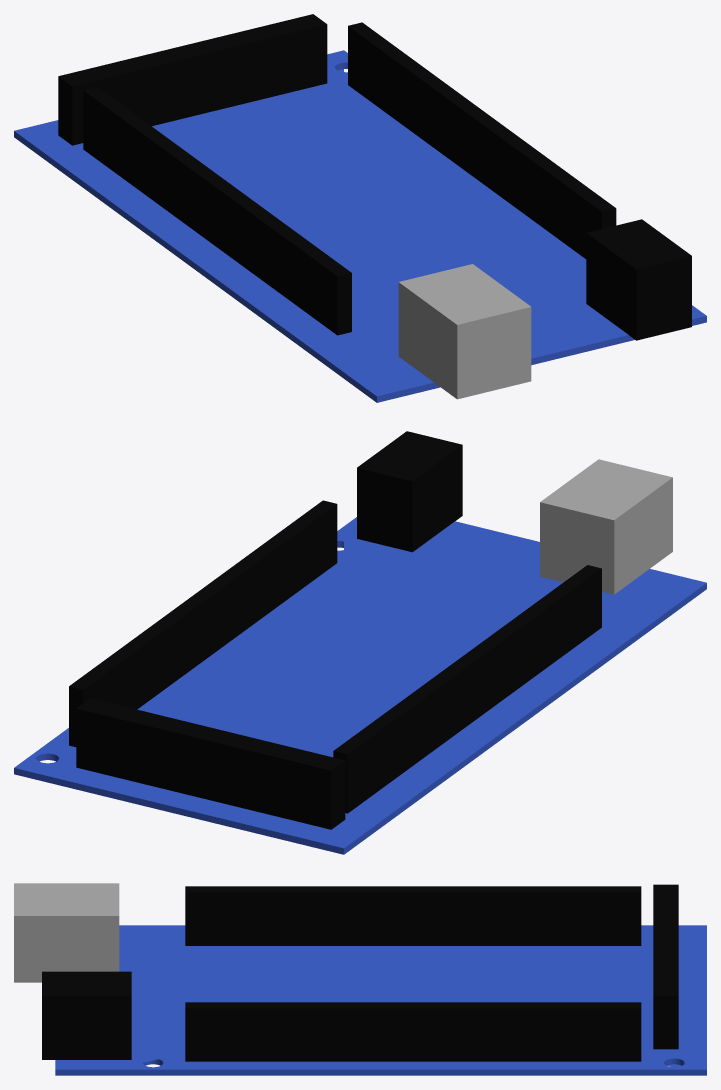
The model's file is MEGA.fbx.
3 views of the same model, one above another, from view 1: azimuth 30°, elevation 25°; view 2: azimuth 150°, elevation 25°; view 3: azimuth 270°, elevation 25° (orthographic). The views are drawn at different scales.
Parts seen in each view (by area): view 1: ArduinoMega; view 2: ArduinoMega; view 3: ArduinoMega.
Boxes of the visible parts, x1,y1,x2,y2 form: ArduinoMega: (14,14,706,402); ArduinoMega: (14,431,706,854); ArduinoMega: (14,883,706,1075).
Size of the model in its own units: 5334 by 10807 by 1250.
